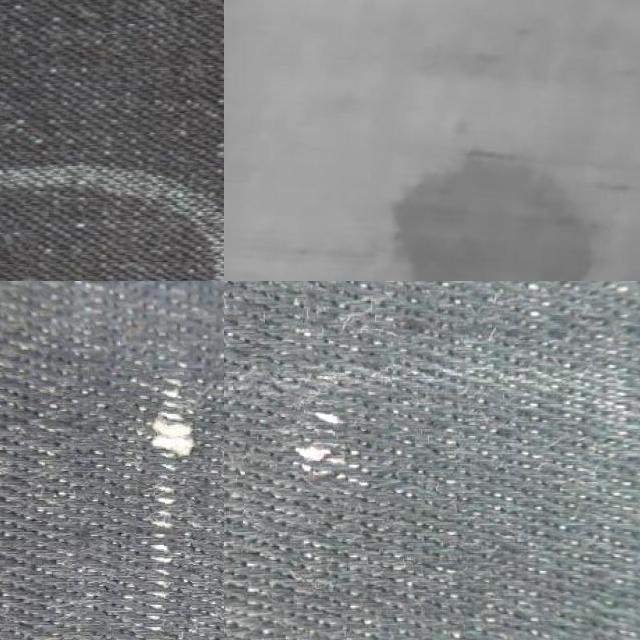Thread_other: (373, 79, 640, 281)
stains: (78, 368, 224, 640), (245, 354, 392, 532)
